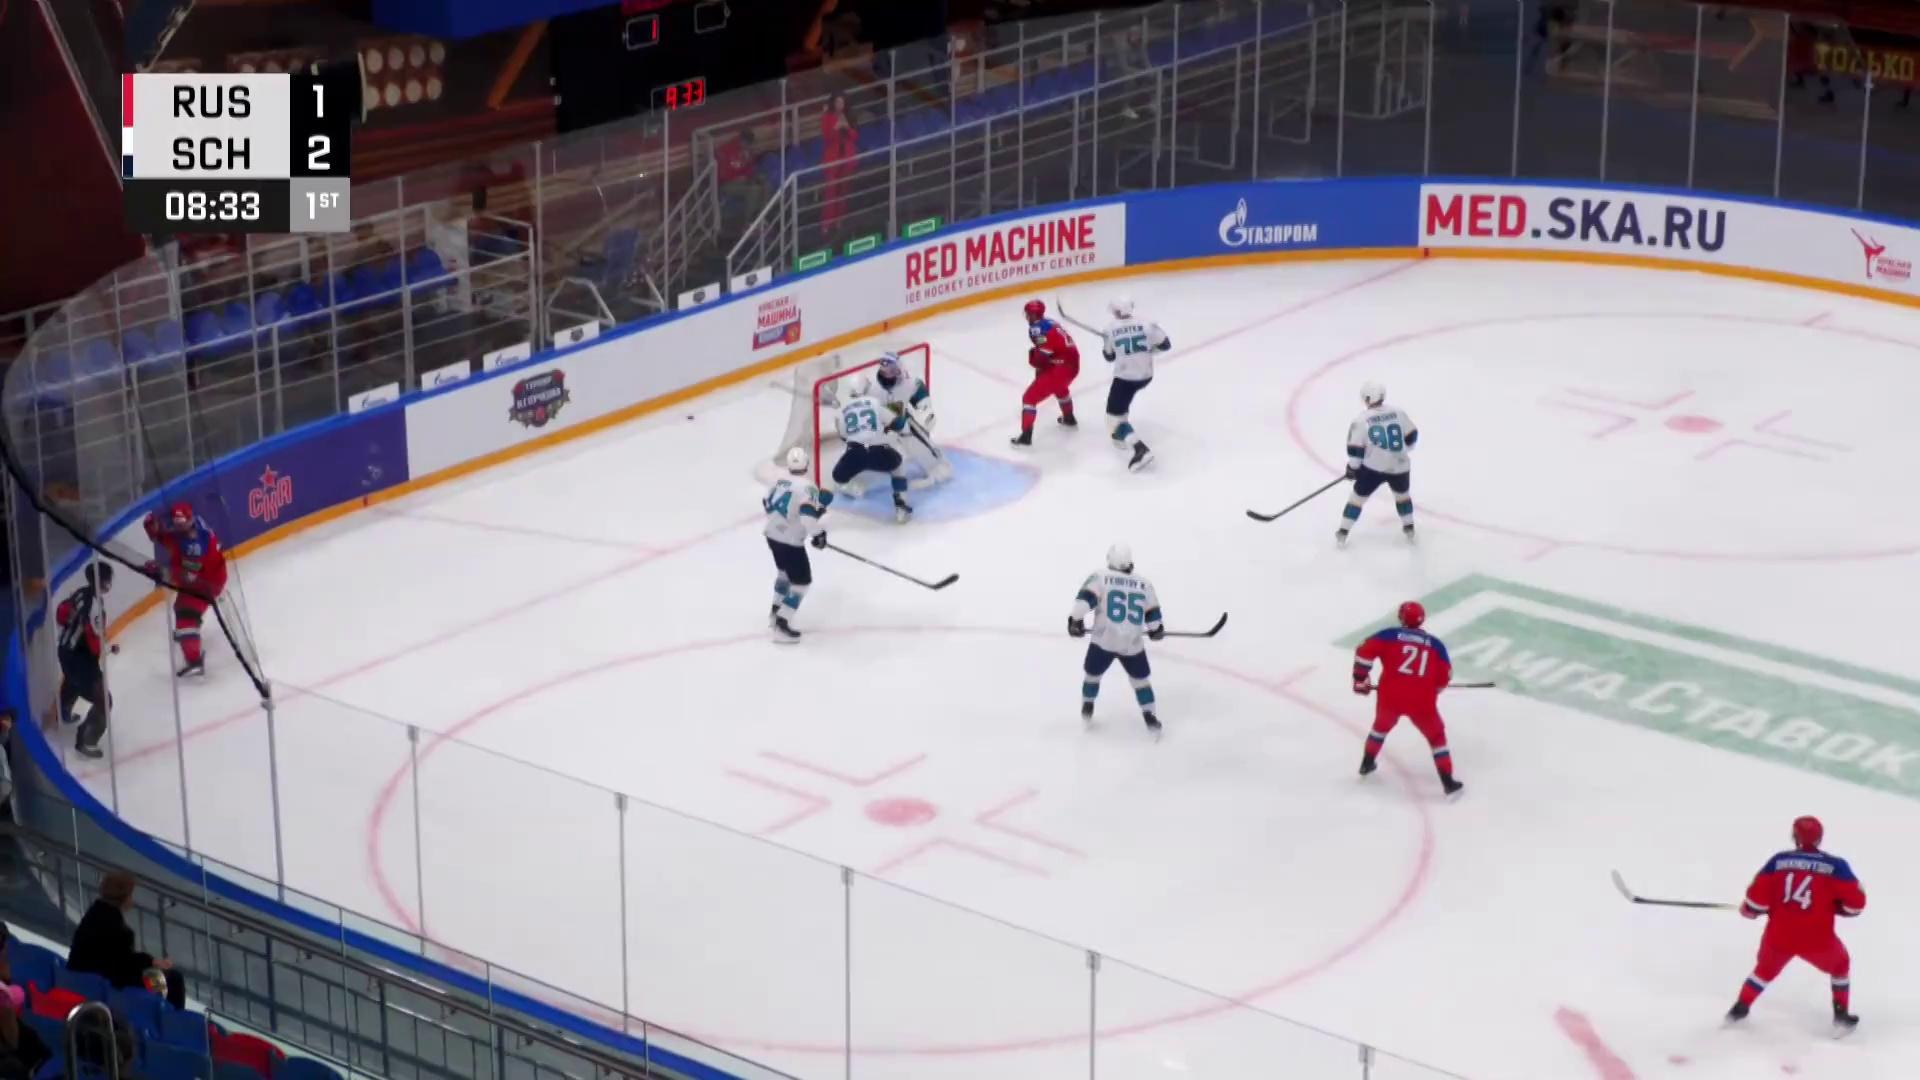ball: (686, 415, 695, 421)
